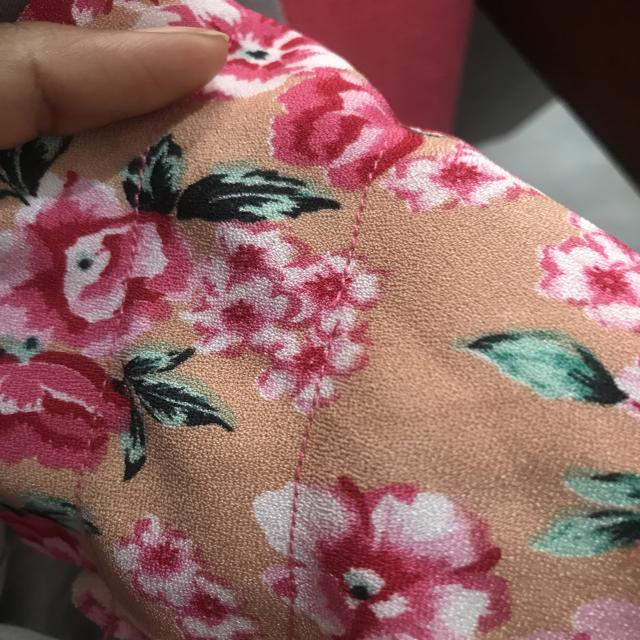broken: (319, 281, 351, 342)
good: (273, 475, 307, 560)
